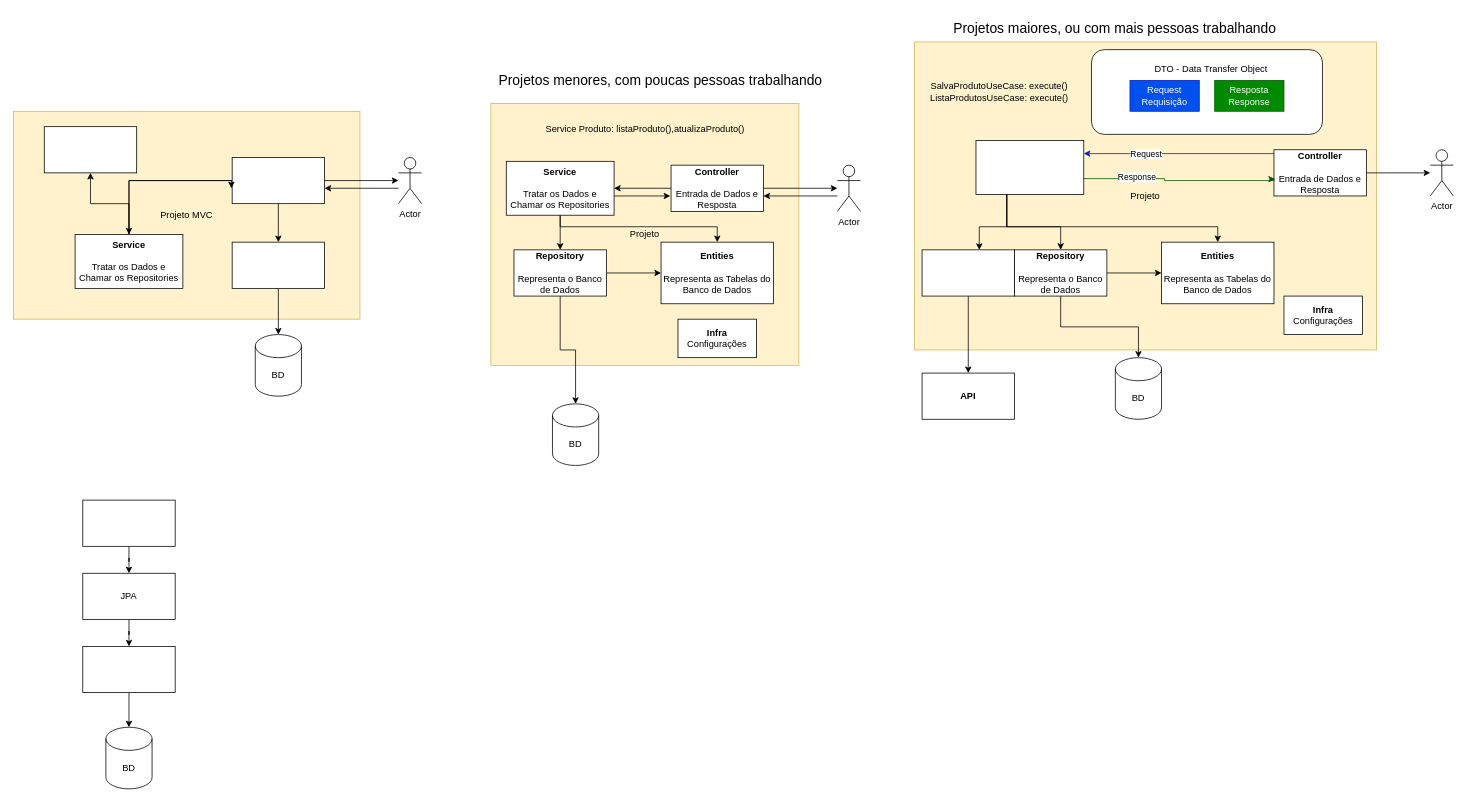
The diagram is 1467 pixels wide and 802 high, and some of its shapes have lost their labels. The shapes that lost their labels are listed below. From the top down, each one's centre as x and y in pixels, then its label:
At (x=90, y=149): "View Tela/Tela de resposta".
At (x=1029, y=167): "UseCase Tratar os Dados e Chamar os Repositories".
At (x=278, y=180): "Controller Entrada de Dados/Requisição".
At (x=278, y=264): "Model Respresenta o Banco de Dados".
At (x=967, y=272): "Gateway Chamadas para outros serviços".
At (x=128, y=522): "App".
At (x=128, y=669): "JDBC".
